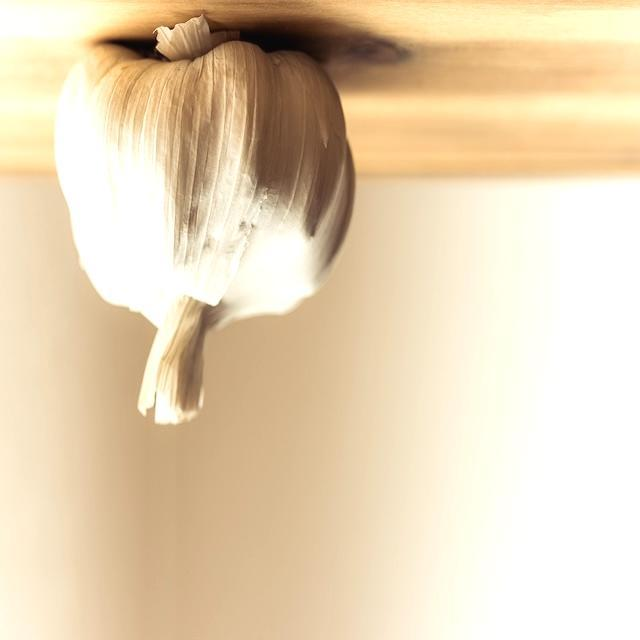garlic: (55, 18, 355, 424)
